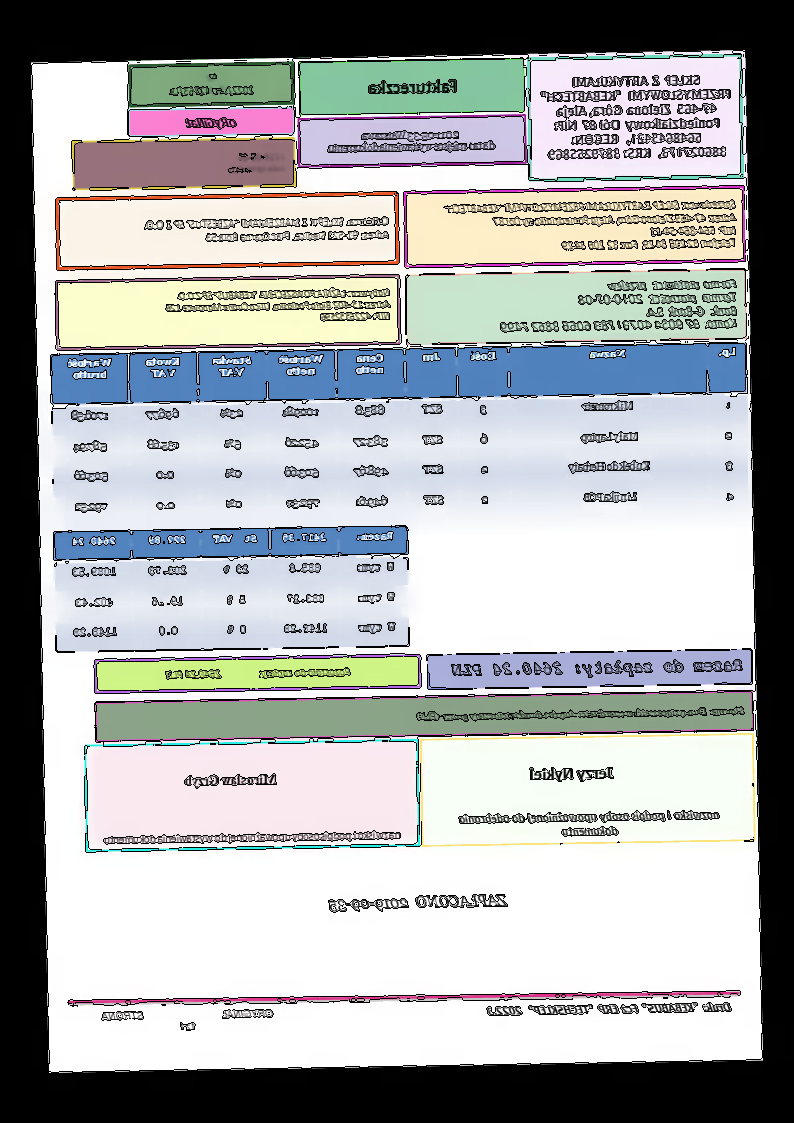Table: (49, 341, 752, 527), (53, 524, 411, 653)
TextBox: (538, 71, 736, 162), (443, 197, 740, 256), (498, 277, 741, 335), (165, 285, 394, 326), (143, 213, 391, 245), (414, 704, 747, 725), (450, 656, 746, 679), (325, 125, 498, 155), (486, 999, 733, 1018), (100, 1007, 276, 1033), (327, 891, 511, 914), (165, 664, 353, 682), (166, 68, 256, 99), (367, 77, 461, 97), (527, 764, 618, 784), (223, 150, 289, 177), (184, 772, 279, 789), (181, 114, 240, 130)
